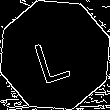L_N: (32, 26, 78, 84)
